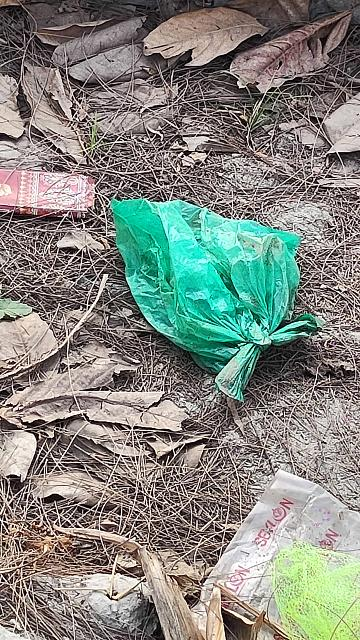polythene: (105, 191, 317, 398)
